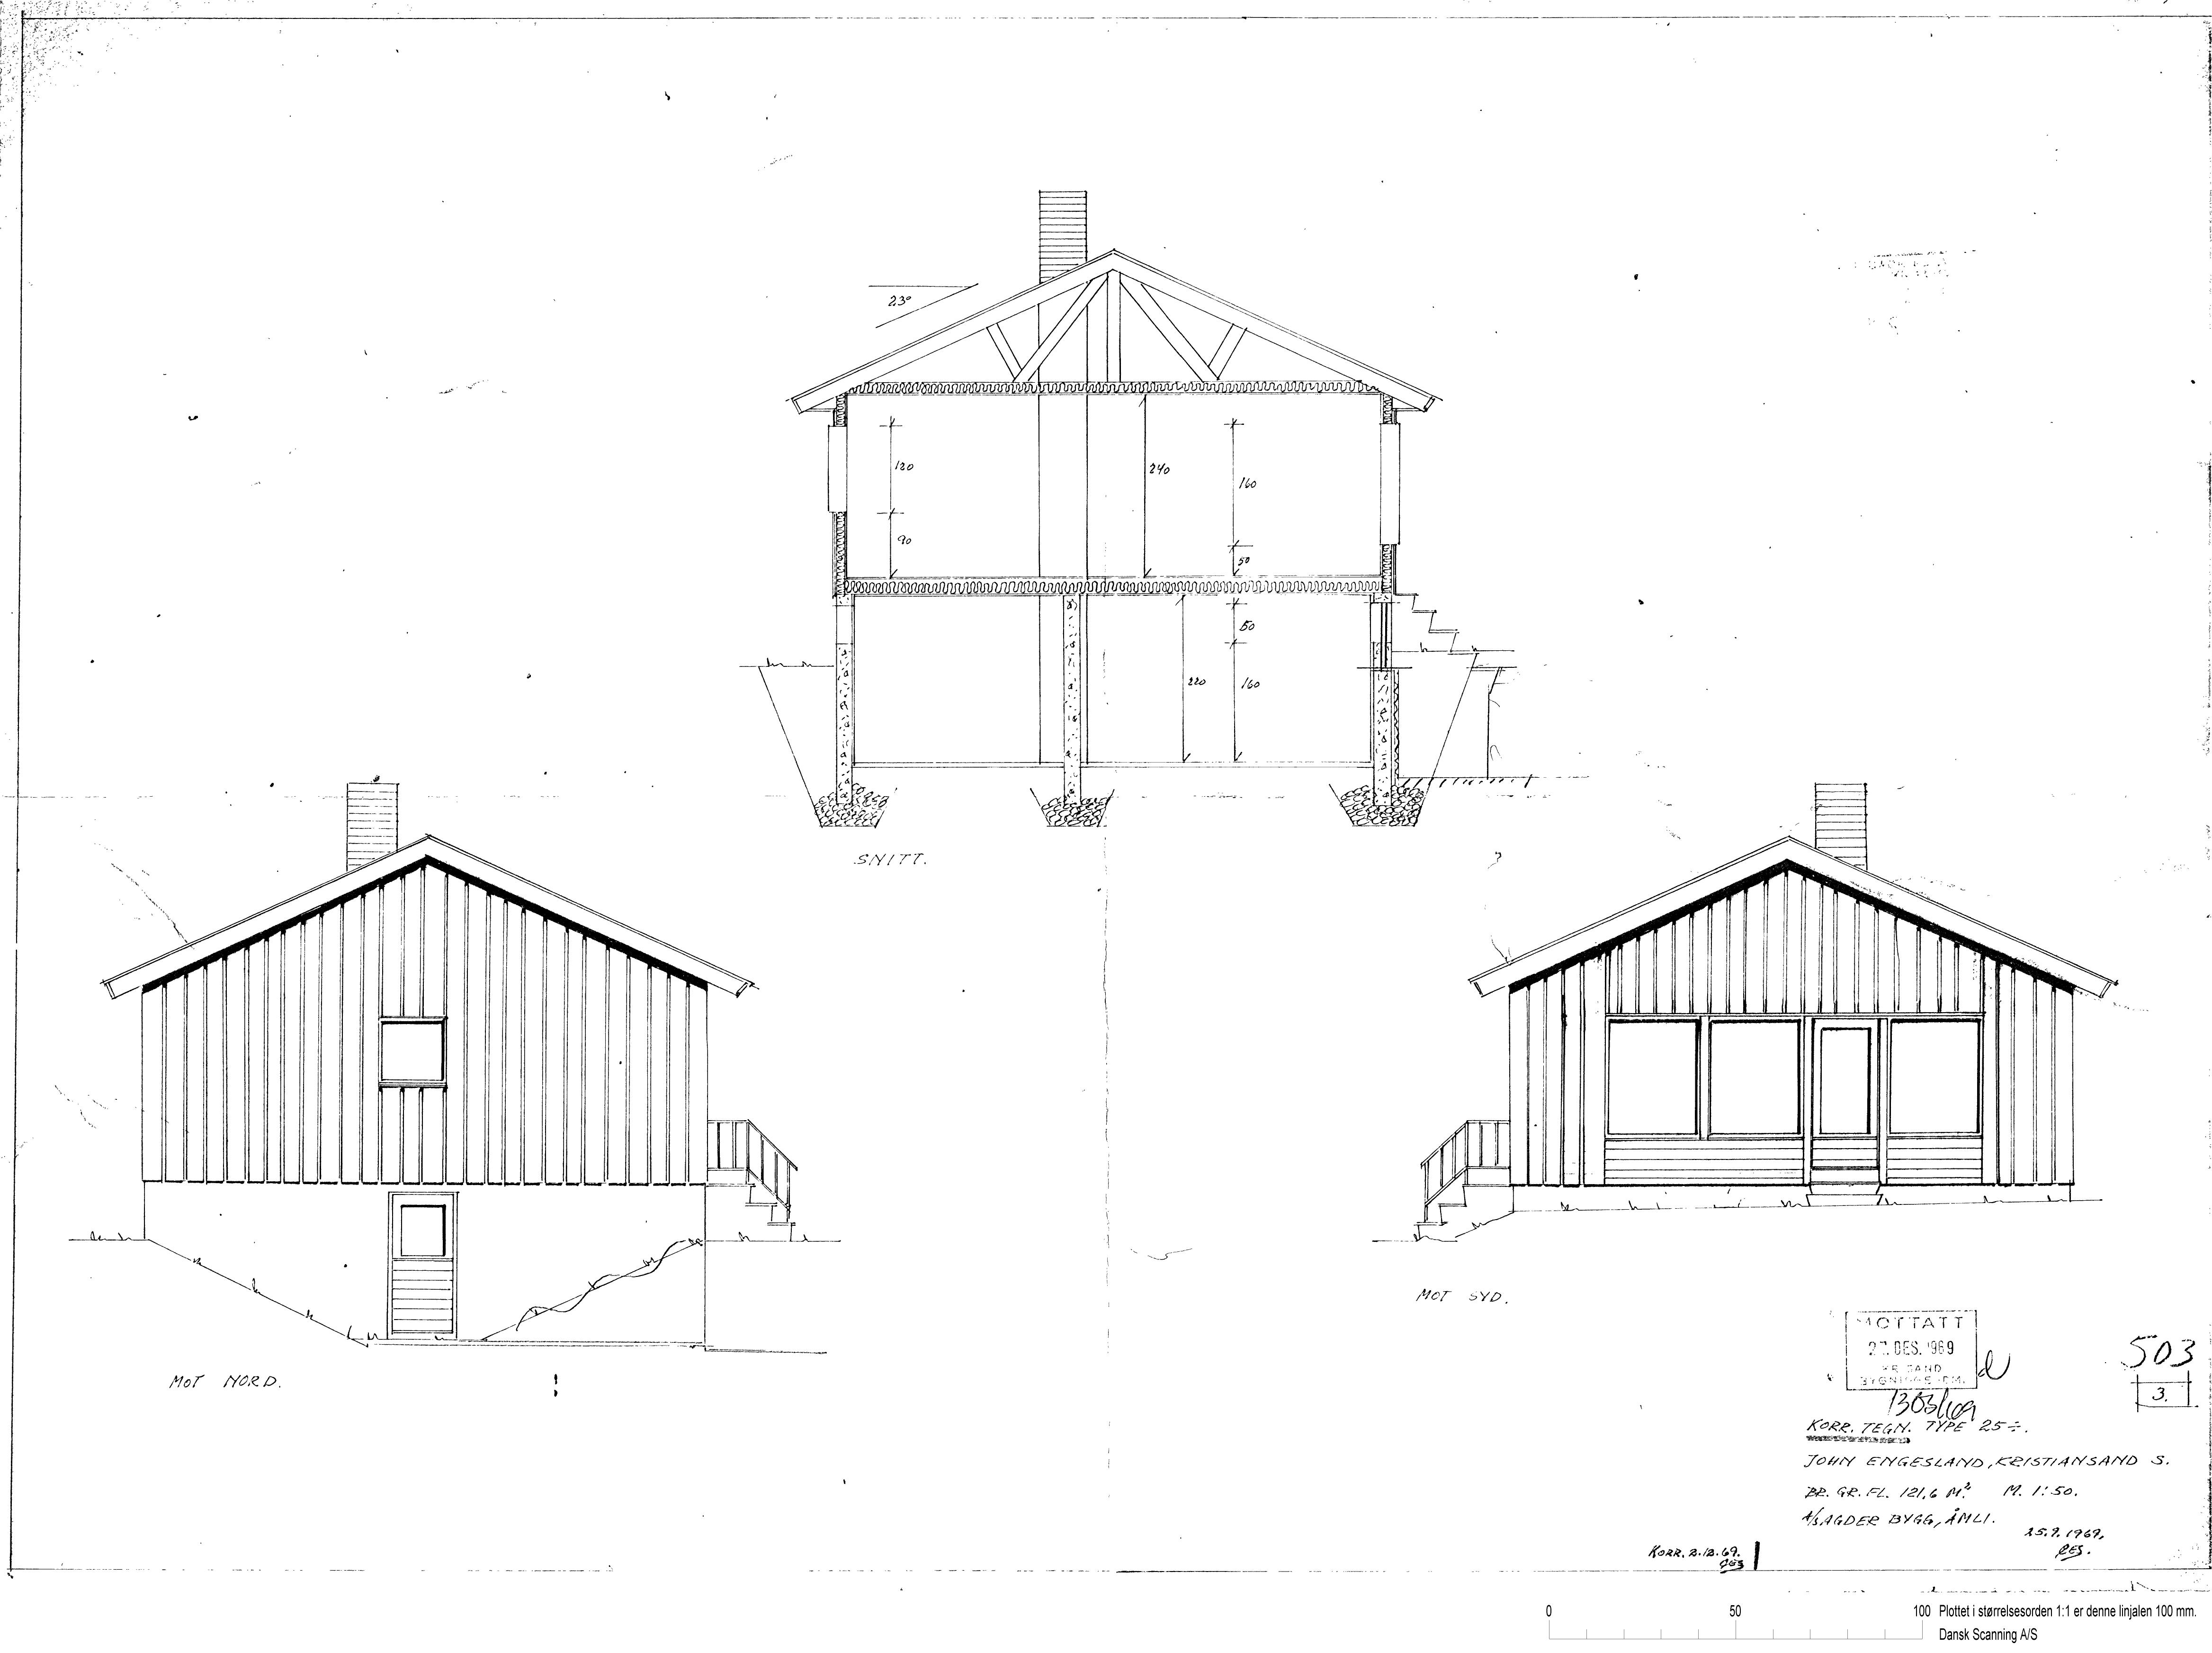fasade: (98, 757, 784, 1342), (1467, 767, 2130, 1251)
snitt: (790, 163, 1514, 850)
